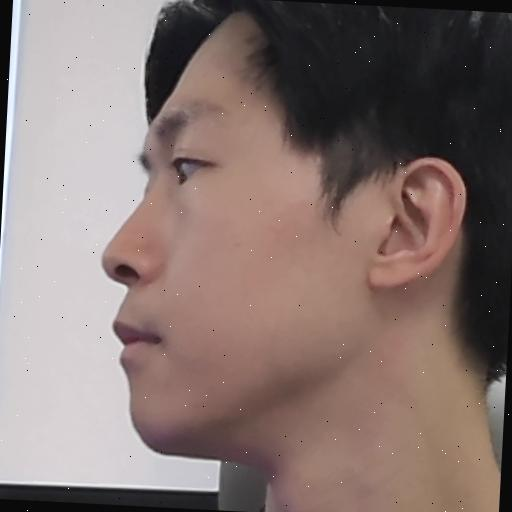no_glasses: (89, 0, 512, 489)
